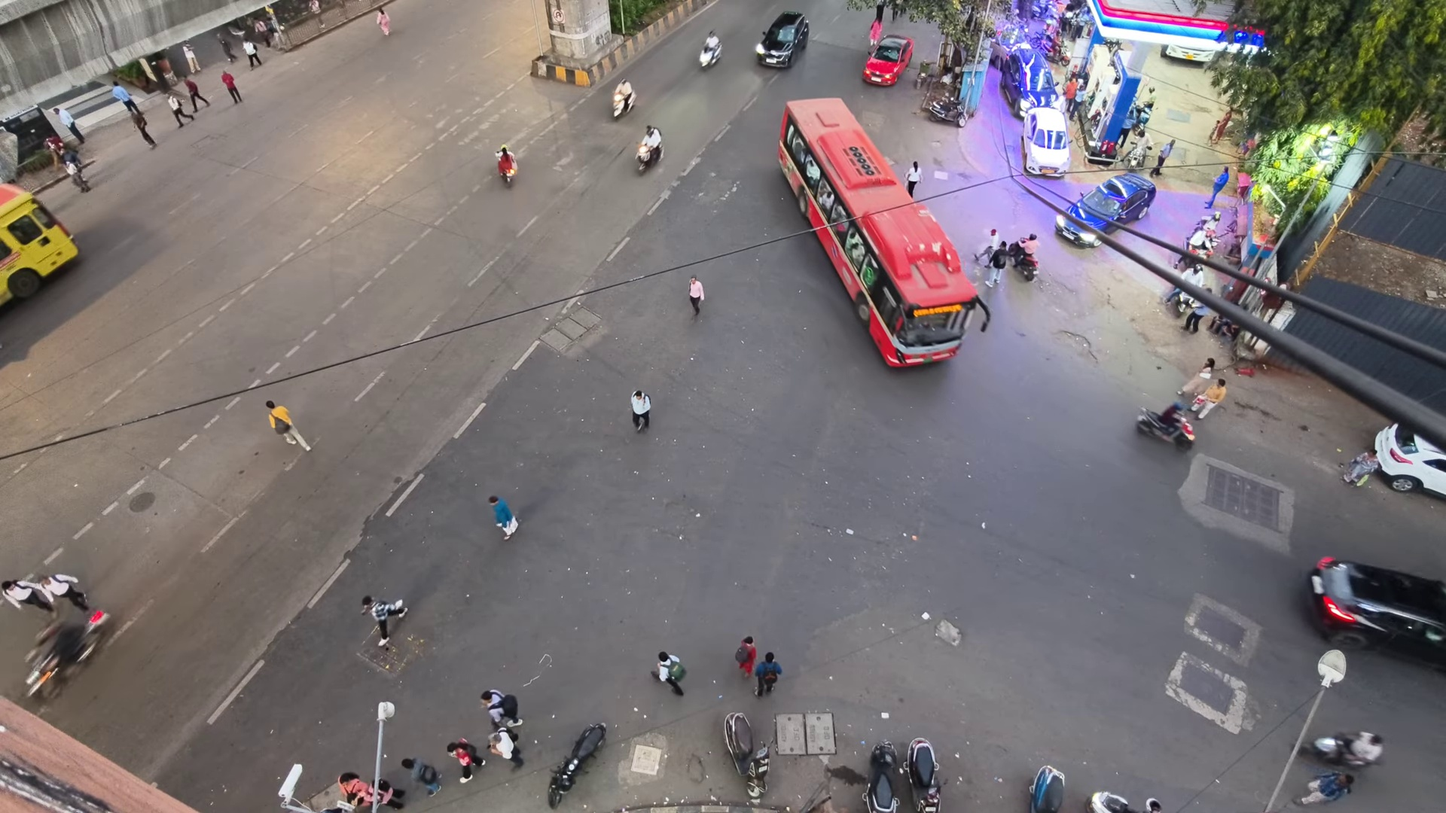walking: (265, 400, 310, 452), (364, 595, 407, 646), (38, 574, 89, 611), (0, 580, 54, 613), (1298, 772, 1353, 804), (480, 690, 523, 729), (447, 738, 484, 782), (1177, 358, 1216, 397), (401, 758, 440, 796), (490, 728, 523, 769), (488, 496, 518, 540), (754, 652, 782, 696), (62, 150, 90, 192), (658, 651, 685, 693), (1197, 379, 1226, 418), (53, 107, 84, 143), (338, 772, 371, 805), (985, 242, 1007, 287), (974, 229, 1003, 263), (1204, 166, 1228, 207), (1149, 139, 1175, 176), (130, 110, 155, 148), (167, 93, 194, 126), (735, 636, 756, 678), (184, 77, 209, 112), (375, 779, 404, 809), (112, 81, 138, 113), (630, 390, 650, 431), (1182, 302, 1208, 333), (221, 71, 242, 102), (688, 276, 704, 315), (1063, 75, 1078, 115), (182, 42, 201, 73), (243, 40, 262, 69), (217, 32, 235, 62), (1182, 263, 1204, 286), (906, 161, 920, 196), (376, 8, 390, 36), (870, 19, 880, 50)
